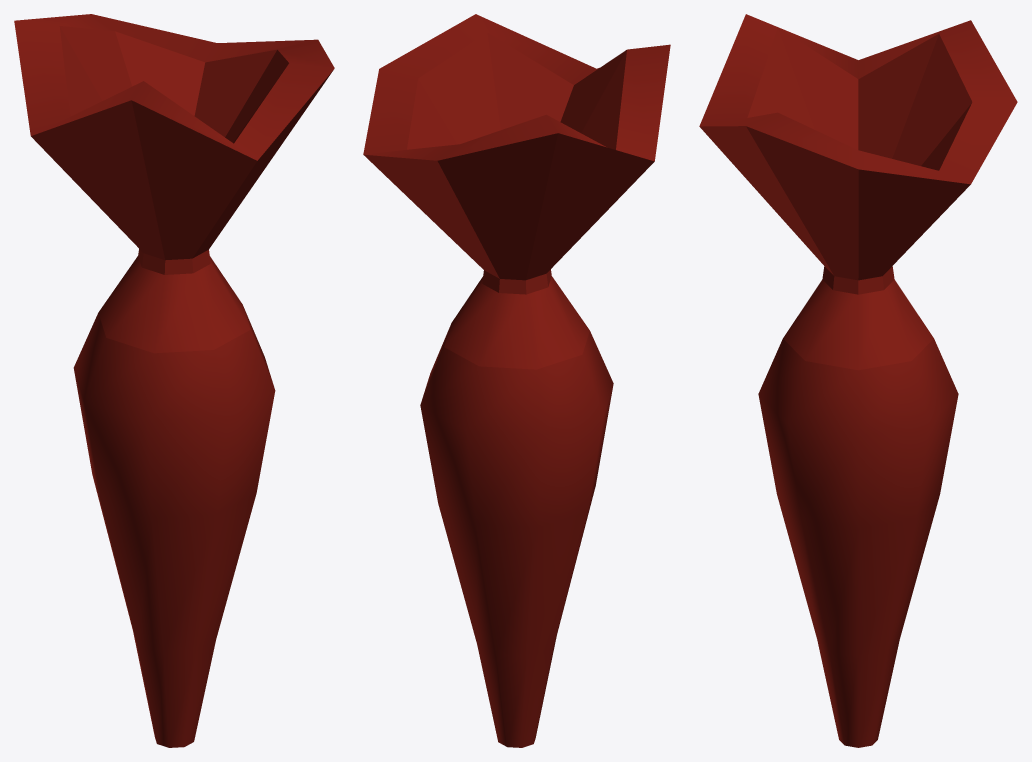
Rendered from Polewa do ciasta.fbx.
3 renders of one model, left to right at view 1: azimuth 30°, elevation 25°; view 2: azimuth 150°, elevation 25°; view 3: azimuth 270°, elevation 25°, orthographic. The views are drawn at different scales.
Parts seen in each view (by area): view 1: Polewa do ciasta; view 2: Polewa do ciasta; view 3: Polewa do ciasta.
Boxes of the visible parts, <box> form: Polewa do ciasta: <box>14,14,334,747</box>; Polewa do ciasta: <box>363,14,670,747</box>; Polewa do ciasta: <box>699,14,1017,747</box>.
Bounding box in the file's own units: 8.92 × 20.97 × 8.92.
